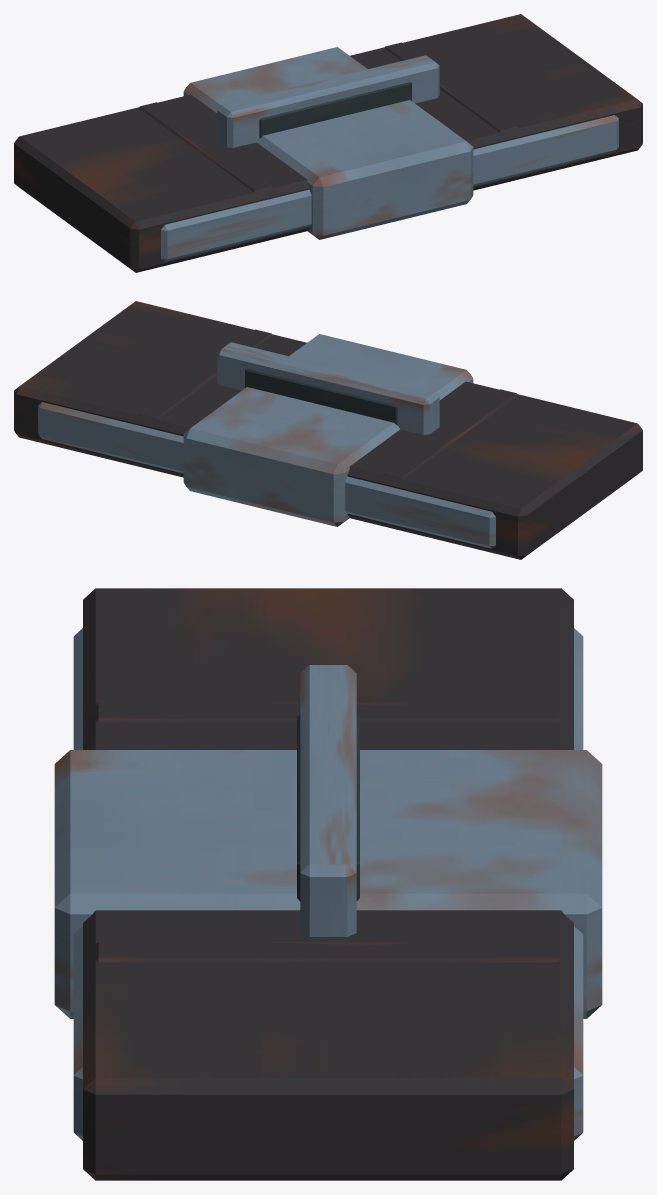
The model's file is car-chunks-wagon.glb.
3 views of the same model, one above another, from view 1: azimuth 30°, elevation 25°; view 2: azimuth 150°, elevation 25°; view 3: azimuth 270°, elevation 25° (orthographic). The views are drawn at different scales.
Visible parts, largest first — view 1: chassis, hood, roof, door; view 2: chassis, hood, roof, door; view 3: chassis, hood, roof, door.
Boxes of the visible parts, bbox=[...] form: chassis: bbox=[14, 14, 642, 272]; hood: bbox=[183, 47, 473, 239]; roof: bbox=[139, 42, 618, 261]; door: bbox=[217, 55, 439, 147]; chassis: bbox=[14, 301, 642, 559]; hood: bbox=[183, 334, 473, 526]; roof: bbox=[38, 329, 517, 548]; door: bbox=[217, 342, 439, 434]; chassis: bbox=[83, 588, 573, 1180]; hood: bbox=[54, 750, 602, 1018]; roof: bbox=[73, 628, 583, 1140]; door: bbox=[297, 665, 359, 936].
Bounding box in the file's own units: 3.76 × 0.8401 × 1.74.
Materials: 1 (1 with a texture image).
